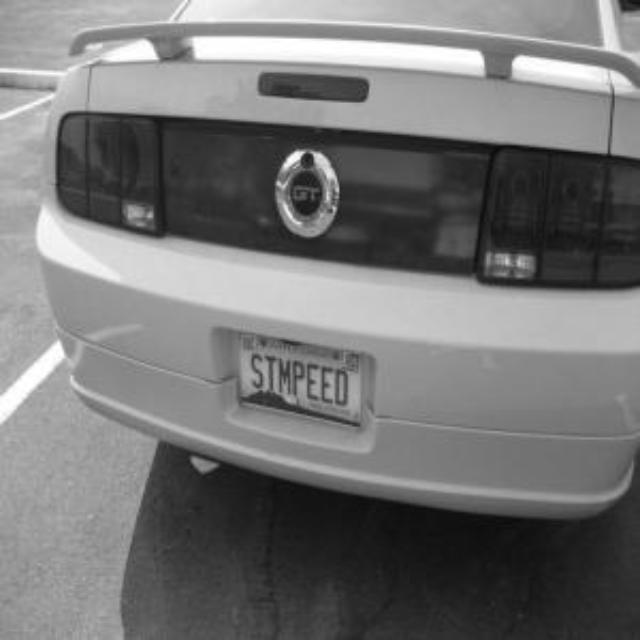License Plate: (239, 333, 363, 429)
